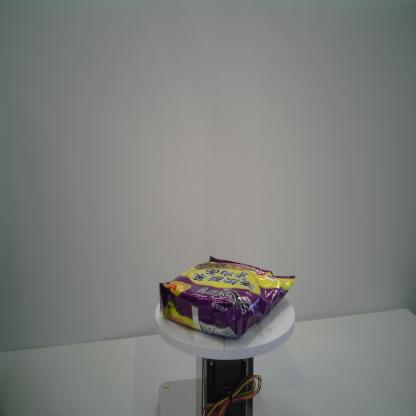Instant Noodles: (158, 254, 296, 340)
